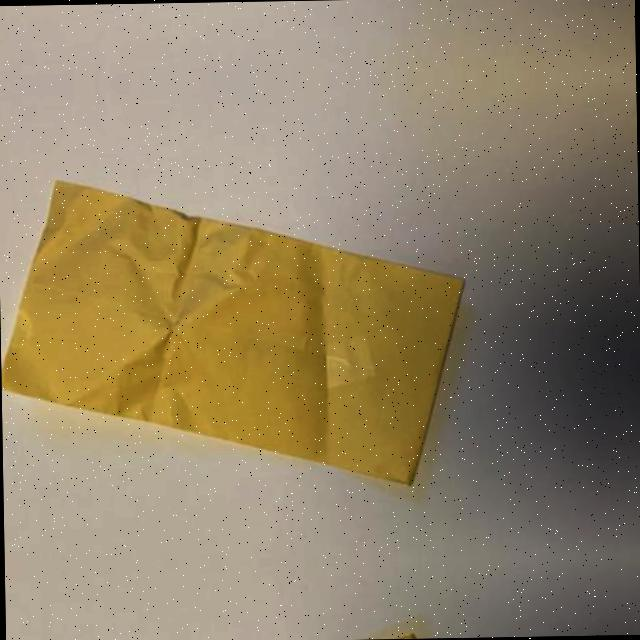paper: (0, 171, 468, 488), (5, 635, 470, 640)
